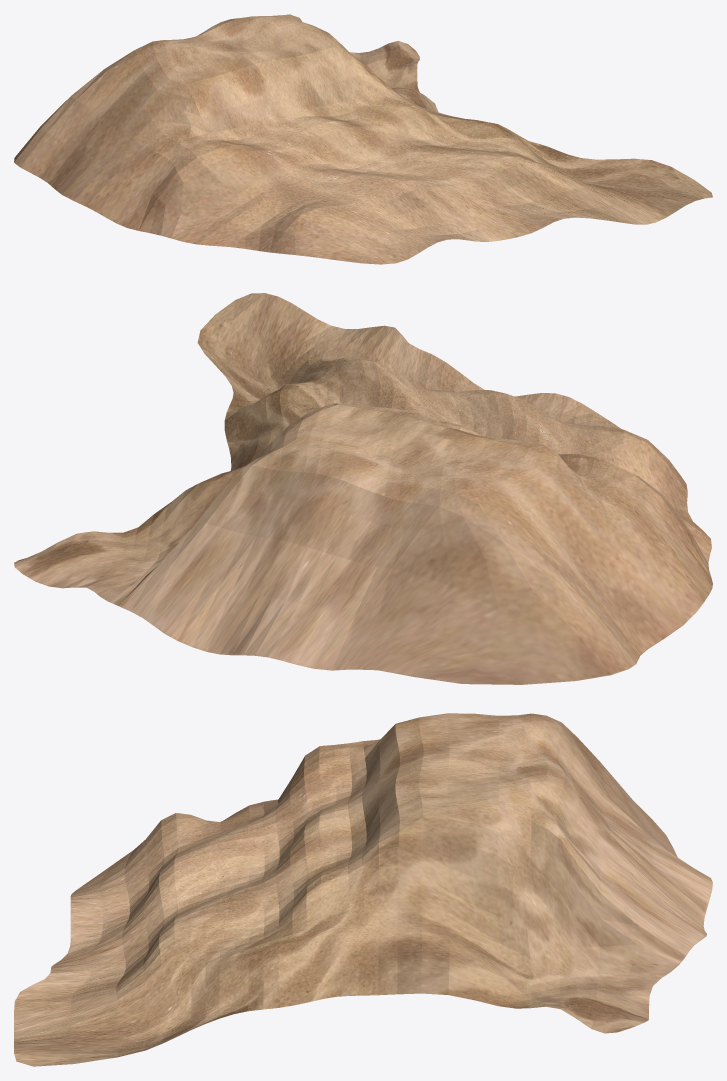
File: arena3.fbx
3 views of the same model, one above another, from view 1: azimuth 30°, elevation 25°; view 2: azimuth 150°, elevation 25°; view 3: azimuth 270°, elevation 25° (orthographic). The views are drawn at different scales.
Visible parts, largest first — view 1: Plano.001; view 2: Plano.001; view 3: Plano.001.
Boxes of the visible parts, bbox=[...] form: Plano.001: bbox=[14, 14, 712, 264]; Plano.001: bbox=[14, 293, 712, 684]; Plano.001: bbox=[14, 713, 712, 1066].
Size of the model in its own units: 316 by 65.02 by 302.
Materials: 1 (1 with a texture image).
